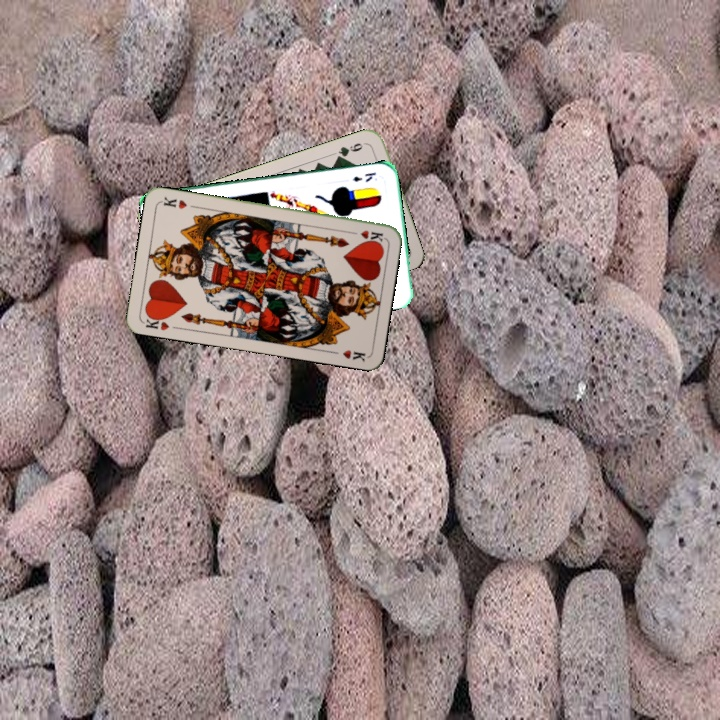EK: (348, 168, 378, 185)
G9: (332, 138, 370, 162)
HK: (345, 226, 386, 245), (140, 310, 172, 333)
